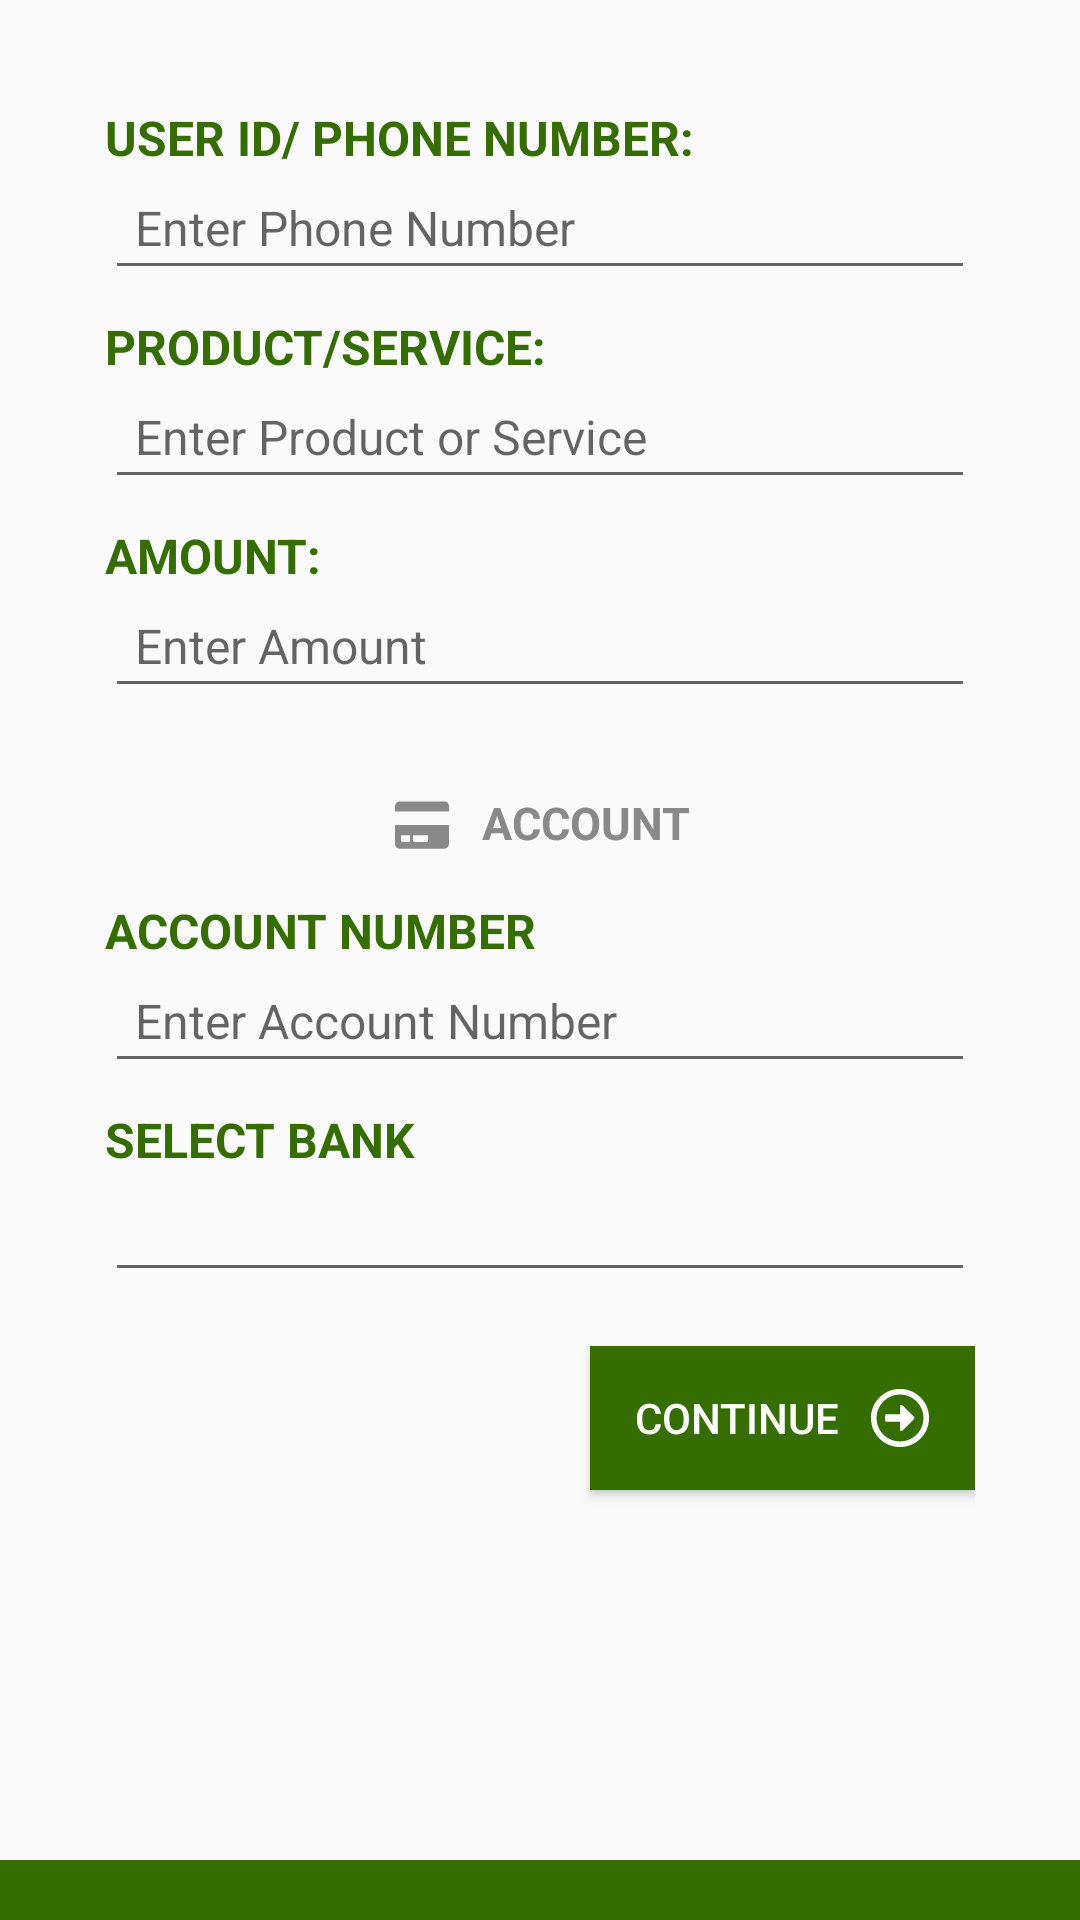

Icons on this 1080x1920 Android screen, each with the point to tap as (x,y):
credit card: (422,825)
